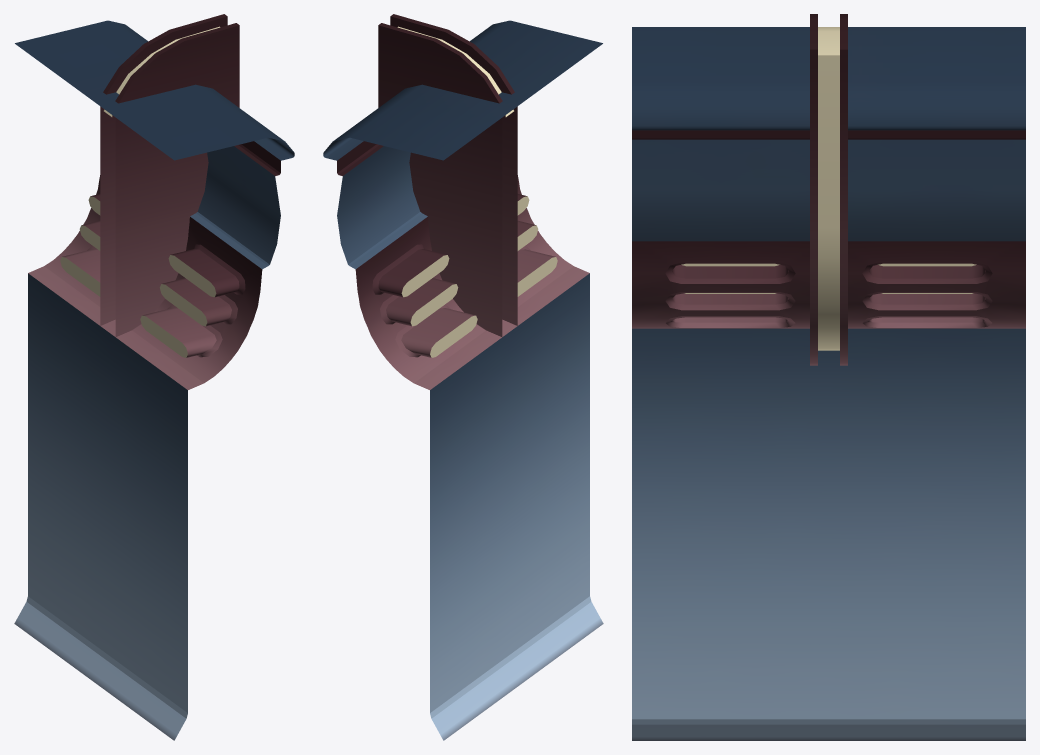
Rendered from ENV_TallWall_Straight.FBX.
The picture shows the model from 3 angles, left to right: view 1: azimuth 30°, elevation 25°; view 2: azimuth 150°, elevation 25°; view 3: azimuth 270°, elevation 25°; orthographic projection. The views are drawn at different scales.
Visible parts, largest first — view 1: ENV_TallWall_Straight; view 2: ENV_TallWall_Straight; view 3: ENV_TallWall_Straight.
Part boxes in pixels (bbox=[...]): ENV_TallWall_Straight: bbox=[14, 14, 294, 740]; ENV_TallWall_Straight: bbox=[323, 14, 603, 740]; ENV_TallWall_Straight: bbox=[632, 14, 1025, 740].
Bounding box in the file's own units: 248 × 1084 × 500.
2 materials, 2 textured.
